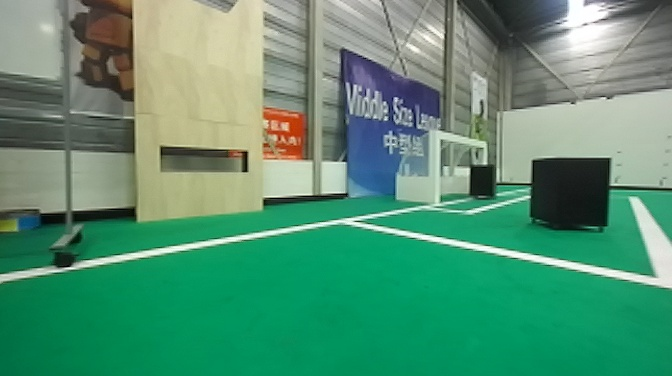goalpost: (428, 129, 440, 205), (474, 144, 486, 164)
